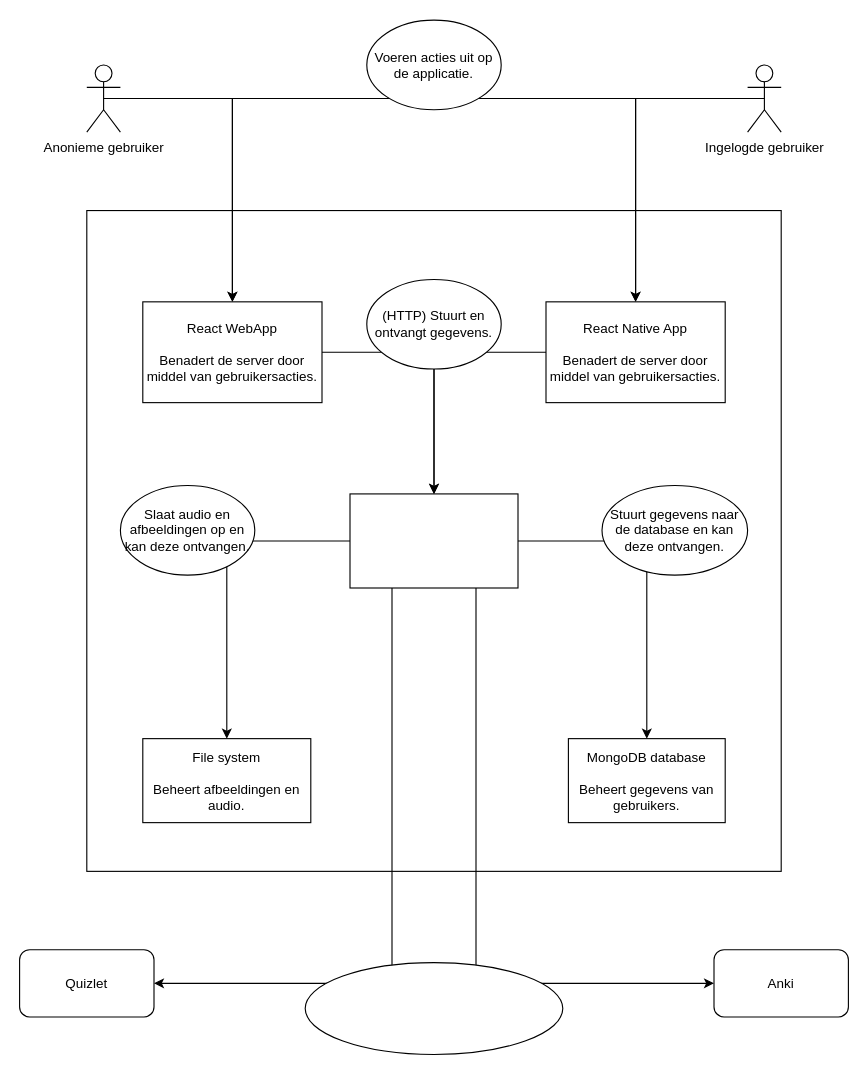
The diagram is 868 pixels wide and 1074 high, and some of its shapes have lost their labels. The shapes that lost their labels are listed below. From the top down, each one's box as (x1, y1, x2, y2) in pixels, then its label:
(349, 493, 518, 588): NodeJS server Benadert de database en file system.
(304, 962, 563, 1054): (HTTP) Haalt gegevens op van Quizlet en Anki voor het importeren van decks.
